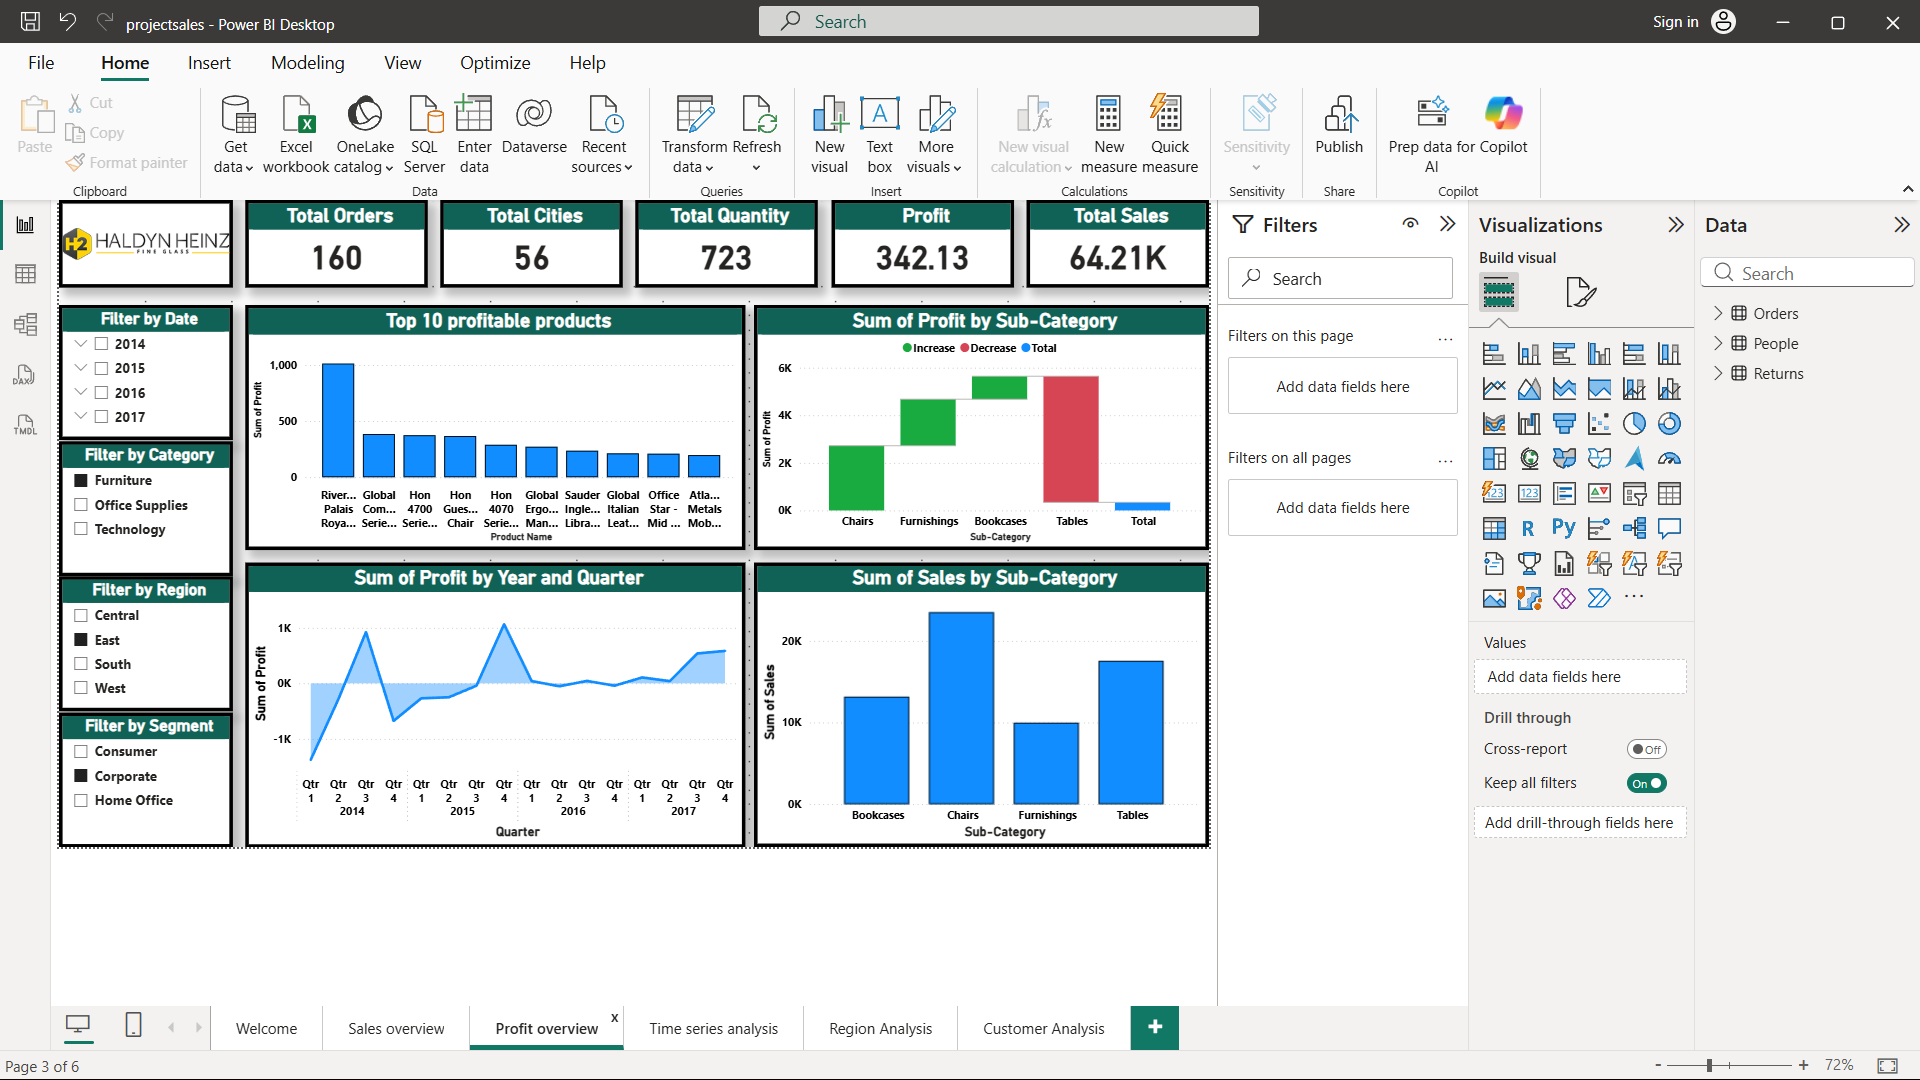

The page's visual inventory and layout, read from the dashboard file:
{"tool":"powerbi","page":{"name":"Profit overview","canvas":[1280,720],"ordinal":2},"visuals":[{"type":"image","box":[0,0,193.4,97.4],"z":0},{"type":"card","title":"Total Orders","fields":{"Values":["Orders.Order ID"]},"box":[207.3,0,203.1,97.4],"z":1000},{"type":"card","title":"Total Cities","fields":{"Values":["Orders.City"]},"box":[424.7,0,203.1,97.4],"z":2000},{"type":"card","title":"Total Quantity","fields":{"Values":["Orders.Quantity"]},"box":[642.1,0,203.1,97.4],"z":3000},{"type":"card","title":"Profit","fields":{"Values":["Orders.Profit"]},"box":[859.5,0,203.1,97.4],"z":4000},{"type":"card","title":"Total Sales","fields":{"Values":["Orders.Sales"]},"box":[1076.9,0,203.1,97.4],"z":5000},{"type":"slicer","title":"Filter by Date","fields":{"Values":["Orders.Order Date.Variation.Date Hierarchy.Year","Orders.Order Date.Variation.Date Hierarchy.Quarter","Orders.Order Date.Variation.Date Hierarchy.Month","Orders.Order Date.Variation.Date Hierarchy.Day"]},"box":[0,116.9,193.4,150.3],"z":6000},{"type":"slicer","title":"Filter by Category","fields":{"Values":["Orders.Category"]},"box":[0,268.1,193.4,150.3],"z":7000},{"type":"slicer","title":"Filter by Region","fields":{"Values":["Orders.Region"]},"box":[0,419.2,193.4,150.3],"z":8000},{"type":"slicer","title":"Filter by Segment","fields":{"Values":["Orders.Segment"]},"box":[0,569.7,193.4,150.3],"z":9000},{"type":"columnChart","title":"Top 10 profitable products","fields":{"Category":["Orders.Product Name"],"Y":["Orders.Profit"]},"box":[207.3,116.9,556.5,272.7],"z":10000},{"type":"waterfallChart","fields":{"Category":["Orders.Sub-Category"],"Y":["Orders.Profit"]},"box":[773.6,116.9,506.4,272.7],"z":11000},{"type":"areaChart","fields":{"Y":["Orders.Profit"],"Category":["Orders.Order Date.Variation.Date Hierarchy.Year","Orders.Order Date.Variation.Date Hierarchy.Quarter","Orders.Order Date.Variation.Date Hierarchy.Month","Orders.Order Date.Variation.Date Hierarchy.Day"]},"box":[207.3,403.5,556.5,317.2],"z":12000},{"type":"columnChart","fields":{"Category":["Orders.Category","Orders.Sub-Category","Orders.Product Name"],"Y":["Orders.Sales"]},"box":[774,403,506,317],"z":13000}]}

Visuals, with their boxes on the page's 1280x720 design canvas (x1, y1, x2, y2). These are canvas units, not pixel positions in the 1920x1080 screenshot, which may show the page scaled, cropped or inside an application window:
image: Rect(0, 0, 193, 97)
"Total Orders" card: Rect(207, 0, 410, 97)
"Total Cities" card: Rect(425, 0, 628, 97)
"Total Quantity" card: Rect(642, 0, 845, 97)
"Profit" card: Rect(860, 0, 1063, 97)
"Total Sales" card: Rect(1077, 0, 1280, 97)
"Filter by Date" slicer: Rect(0, 117, 193, 267)
"Filter by Category" slicer: Rect(0, 268, 193, 418)
"Filter by Region" slicer: Rect(0, 419, 193, 570)
"Filter by Segment" slicer: Rect(0, 570, 193, 720)
"Top 10 profitable products" columnChart: Rect(207, 117, 764, 390)
waterfallChart - Orders.Sub-Category x Orders.Profit: Rect(774, 117, 1280, 390)
areaChart - Orders.Profit x Orders.Order Date.Variation.Date Hierarchy.Year: Rect(207, 404, 764, 721)
columnChart - Orders.Category x Orders.Sub-Category: Rect(774, 403, 1280, 720)
